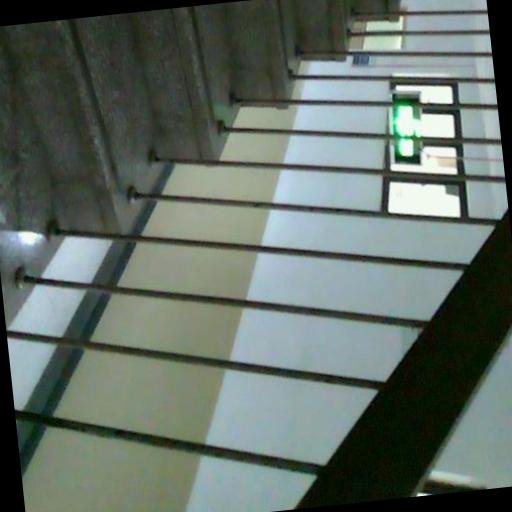stairs: (0, 0, 398, 319)
